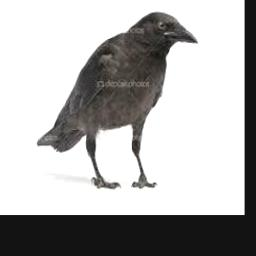Crow: (36, 11, 198, 189)
